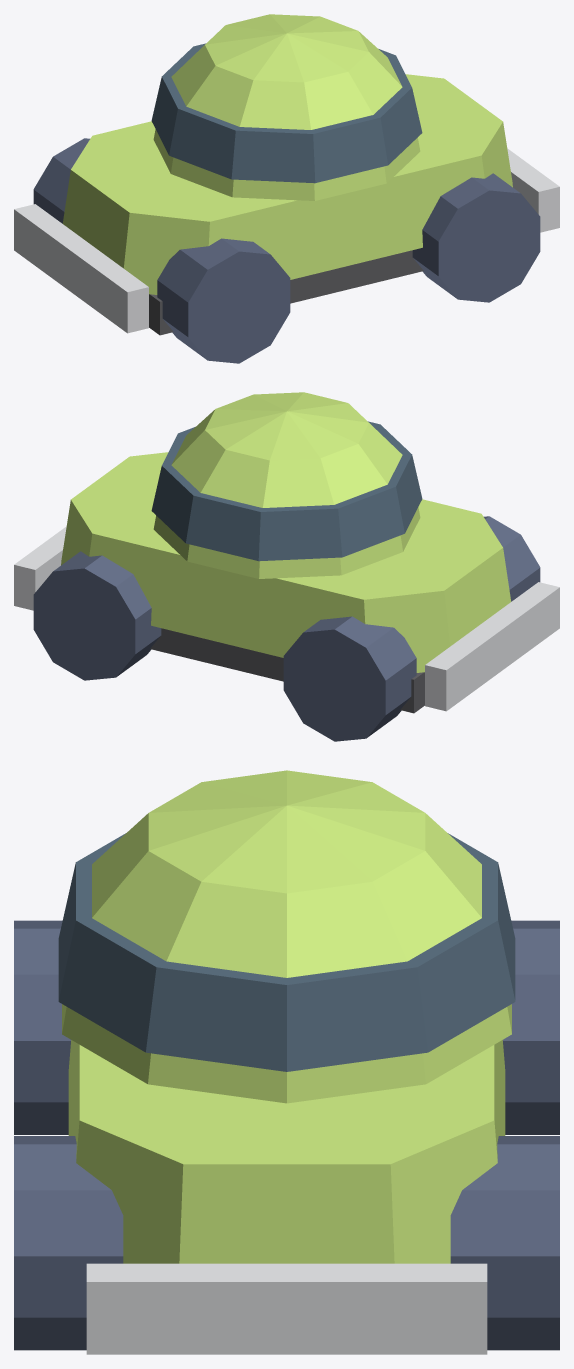
Rendered from car_bubble.glb.
3 views of the same model, one above another, from view 1: azimuth 30°, elevation 25°; view 2: azimuth 150°, elevation 25°; view 3: azimuth 270°, elevation 25° (orthographic). The views are drawn at different scales.
Bounding box in the file's own units: 0.242 × 0.13 × 0.15.
